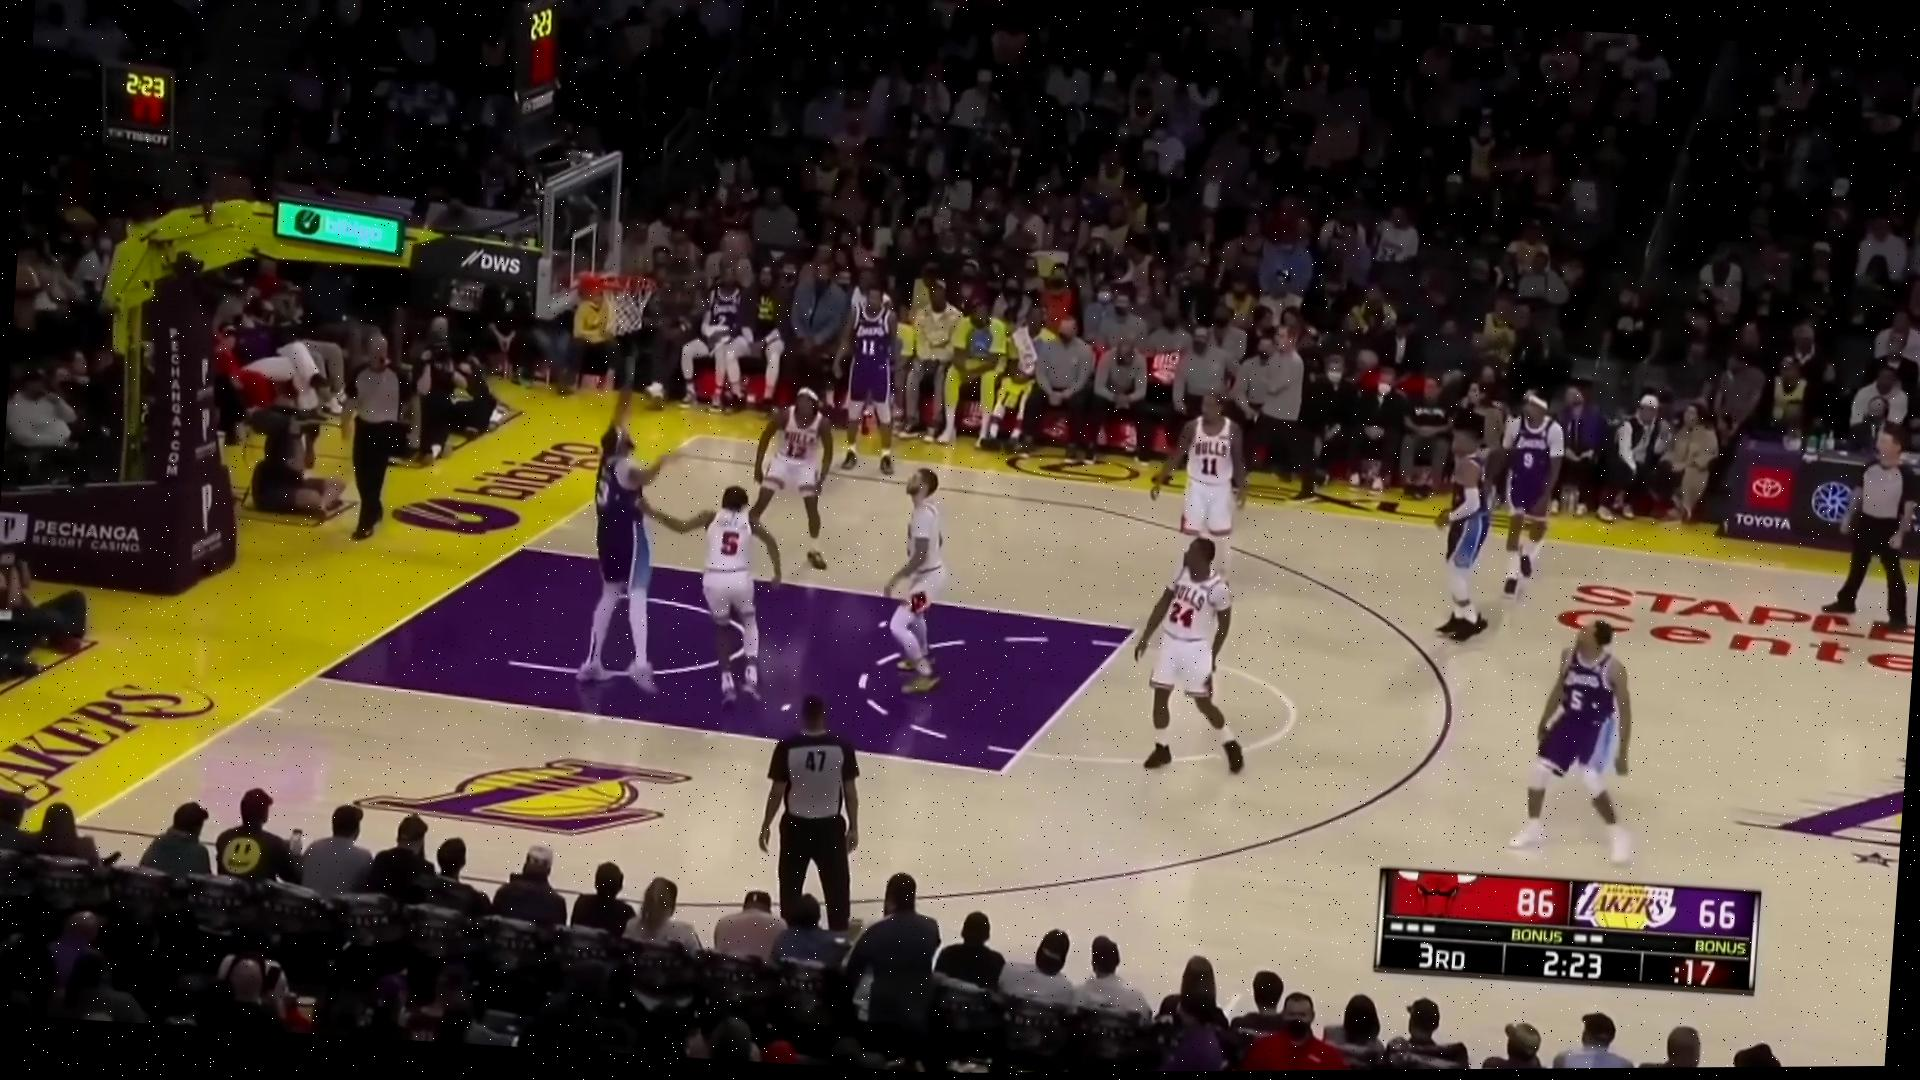no_foul: (551, 397, 794, 705)
